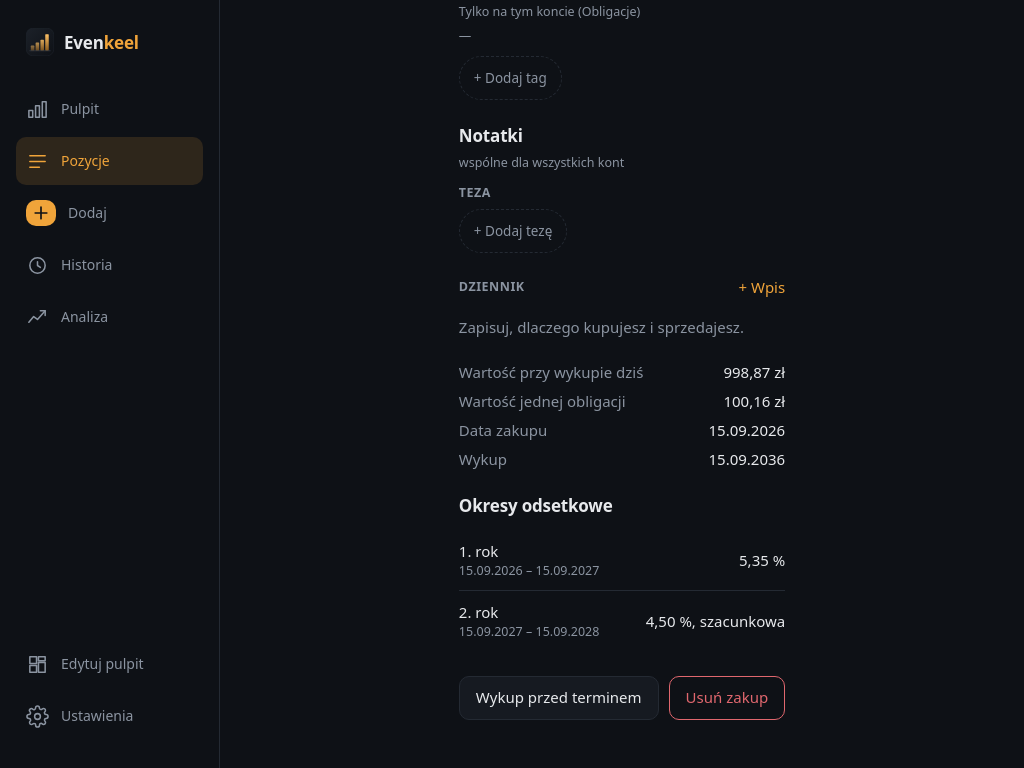
Test: bond detail › shows the API error when saving the redemption fails
The width and height of the screenshot is (1024, 768).
(page scrolled)
What coordinates should you click on to do the following:
click the button "Wykup przed terminem"
I would click on:
 (559, 698)
Its box is [459, 676, 659, 720].
(page scrolled)
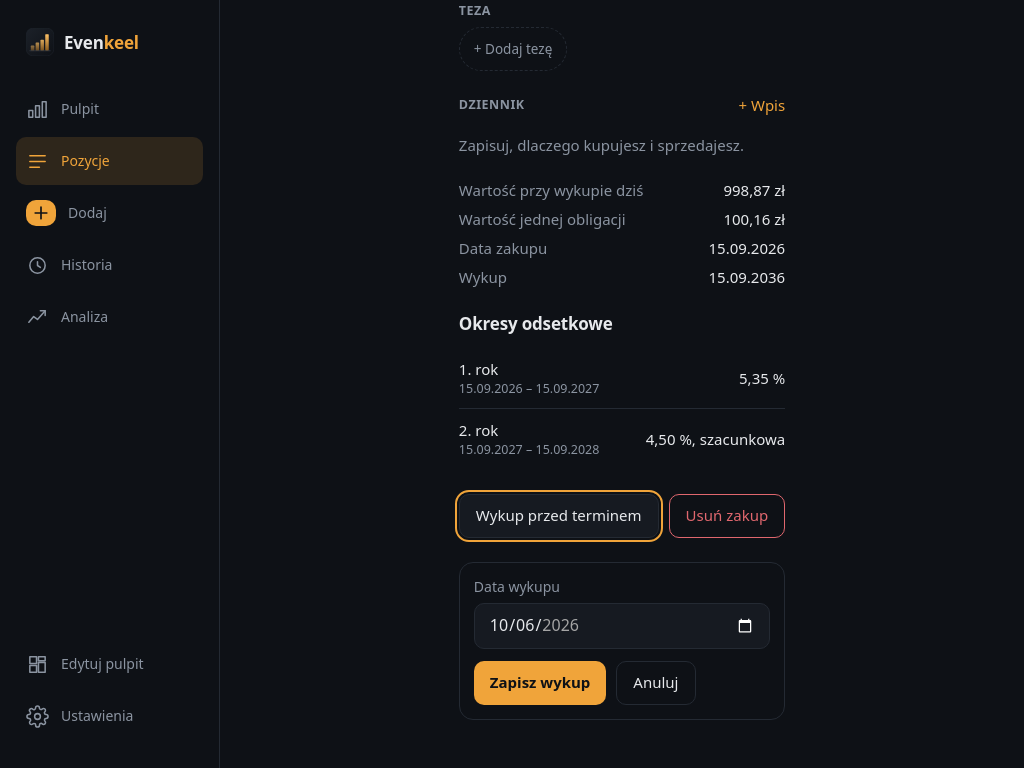
What coordinates should you click on to do the following:
click the button "Zapisz wykup"
I would click on:
 (540, 683)
Its box is [474, 661, 606, 705].
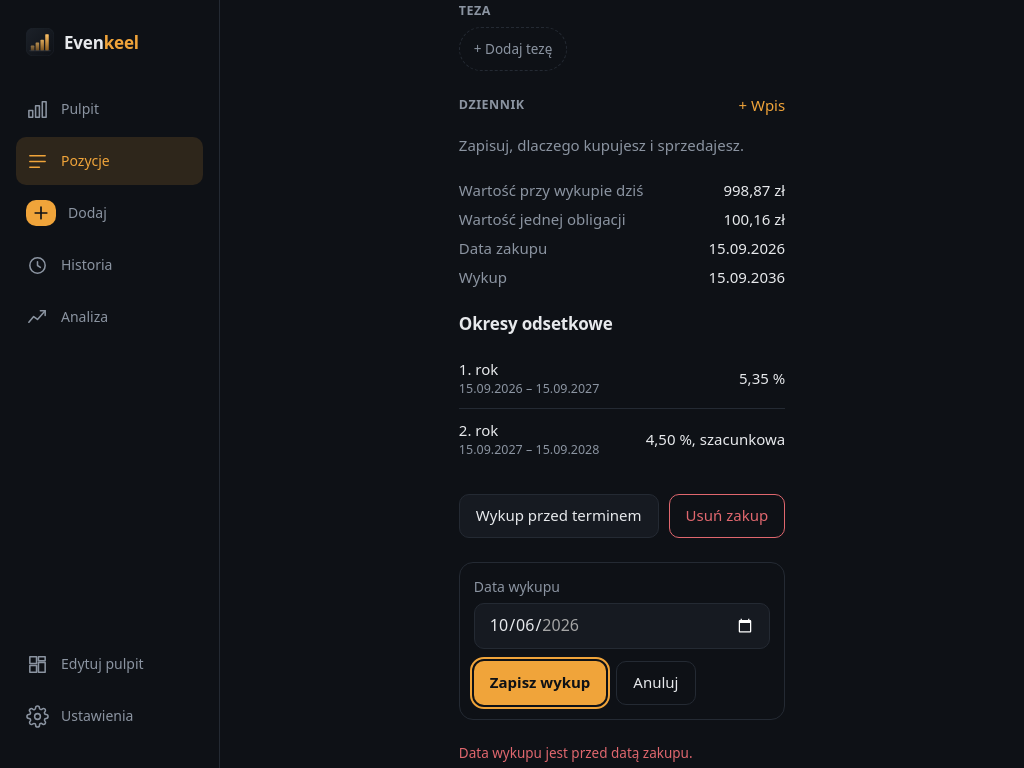
Expected: the text "Data wykupu jest przed datą zakupu." is shown, [459, 744, 693, 762]
